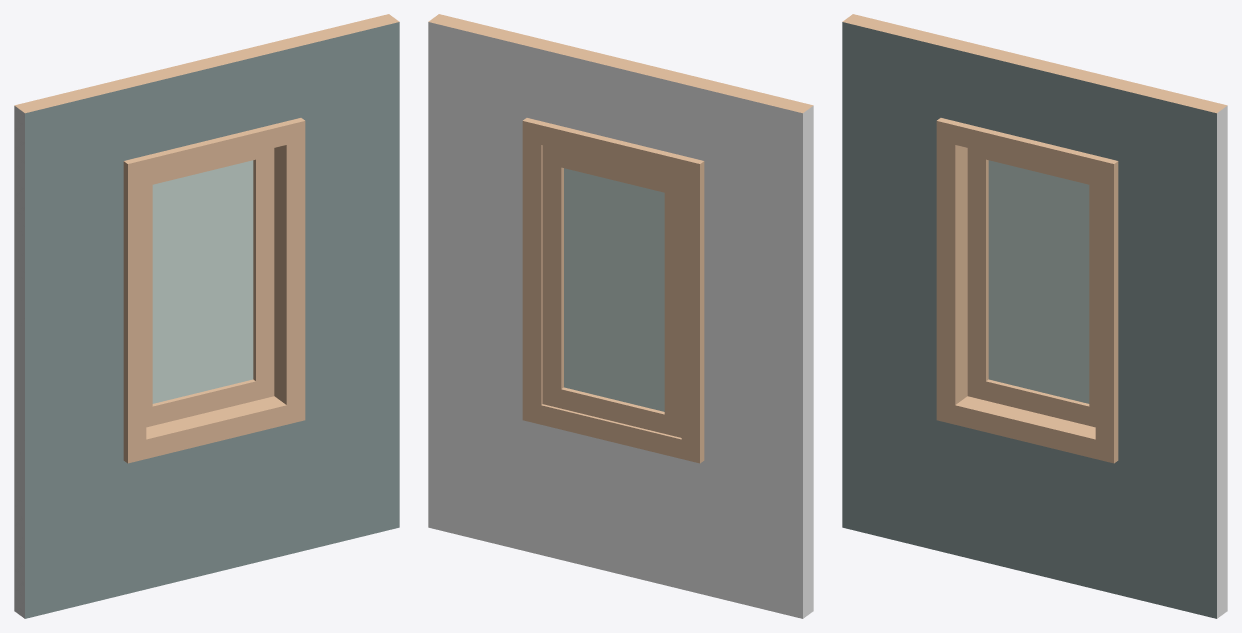
The model's file is wallWindow.fbx.
3 renders of one model, left to right at view 1: azimuth 30°, elevation 25°; view 2: azimuth 150°, elevation 25°; view 3: azimuth 330°, elevation 25°, orthographic.
Visible parts, largest first — view 1: wallWindow, window; view 2: wallWindow, window; view 3: wallWindow, window.
Part boxes in pixels (left/top/right/bottom): wallWindow: left=14, top=14, right=399, bottom=618; window: left=146, top=148, right=274, bottom=427; wallWindow: left=428, top=14, right=813, bottom=618; window: left=542, top=145, right=681, bottom=437; wallWindow: left=842, top=14, right=1227, bottom=618; window: left=967, top=148, right=1095, bottom=427.
Size of the model in its own units: 1000 by 1290 by 89.1.
